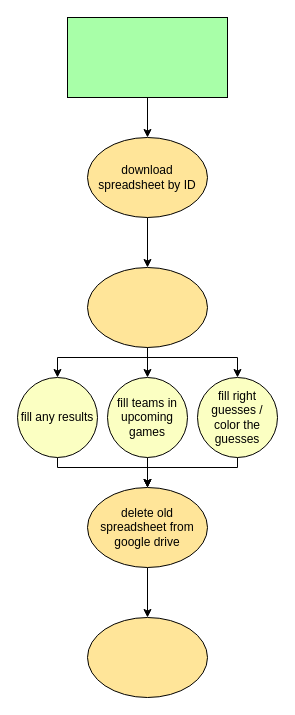
This 295x715 diagram has some shape labels left out. Each missing label, with the centre of its shape:
fill in possible data: point 147,307
In the middle of championiship: point 147,57
upload new .xlsx file to google drive: point 147,657
